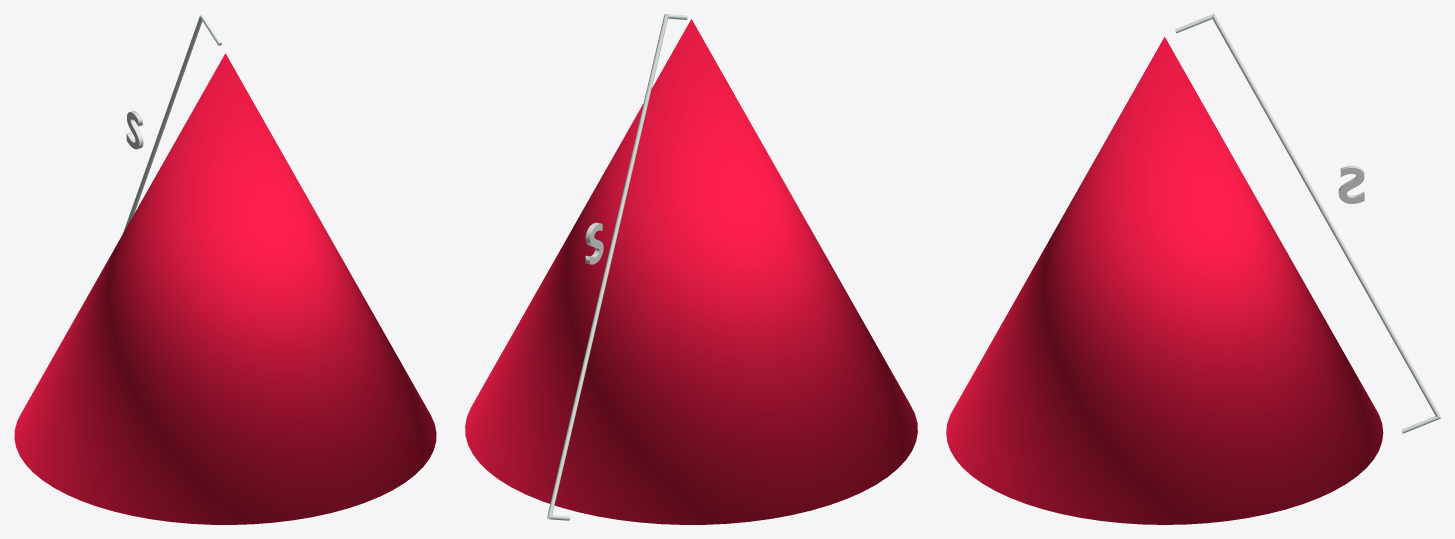
The picture shows the model from 3 angles, left to right: view 1: azimuth 30°, elevation 25°; view 2: azimuth 150°, elevation 25°; view 3: azimuth 270°, elevation 25°; orthographic projection. The views are drawn at different scales.
Parts seen in each view (by area): view 1: Cone, Cylinder.003, s; view 2: Cone, Cylinder.003, s; view 3: Cone, Cylinder.003, s.
Part boxes in pixels (x1=…): Cone: x1=14, y1=53, x2=436, y2=524; Cylinder.003: x1=123, y1=14, x2=204, y2=233; s: x1=126, y1=111, x2=143, y2=149; Cone: x1=465, y1=19, x2=917, y2=524; Cylinder.003: x1=547, y1=14, x2=668, y2=515; s: x1=585, y1=222, x2=603, y2=264; Cone: x1=946, y1=37, x2=1383, y2=524; Cylinder.003: x1=1212, y1=14, x2=1439, y2=416; s: x1=1338, y1=165, x2=1364, y2=203.
Size of the model in its own units: 2 by 2.12 by 2.26.
